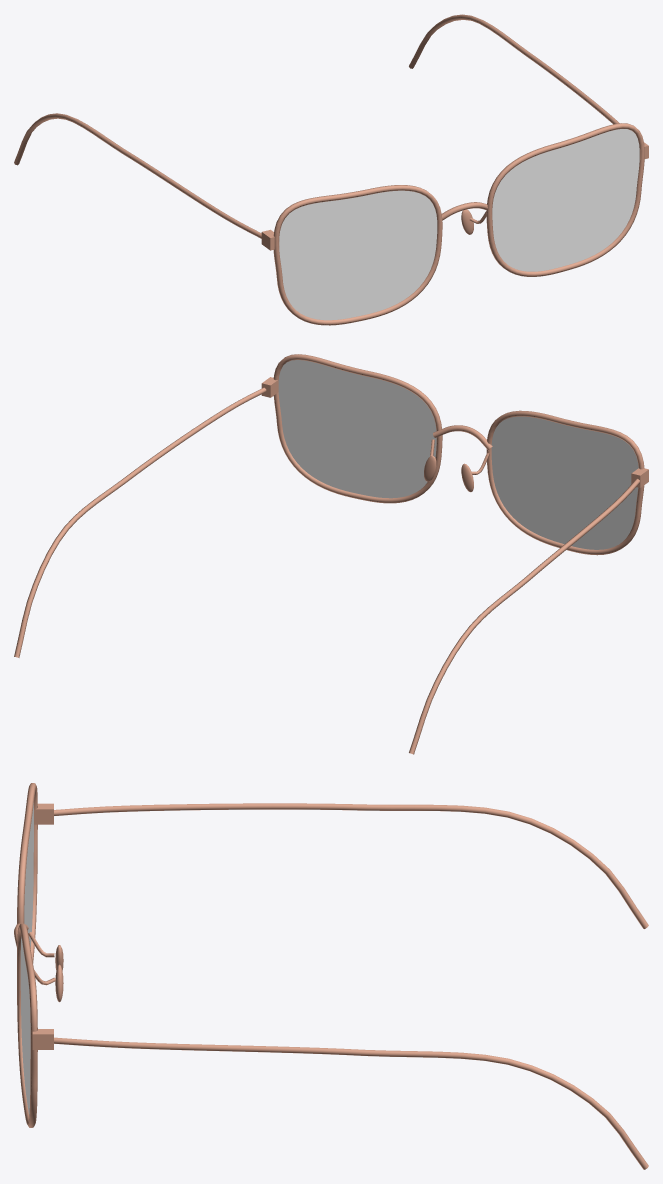
File: NY-W04_Pari_Rose_gold.glb
3 renders of one model, top to bottom at view 1: azimuth 30°, elevation 25°; view 2: azimuth 150°, elevation 25°; view 3: azimuth 270°, elevation 25°, orthographic. The views are drawn at different scales.
Parts seen in each view (by area): view 1: Pari_Rose_gold_Lenses, Pari_Rose_gold_Metal; view 2: Pari_Rose_gold_Lenses, Pari_Rose_gold_Metal; view 3: Pari_Rose_gold_Metal, Pari_Rose_gold_Lenses.
Boxes of the visible parts, x1,y1,x2,y2 form: Pari_Rose_gold_Lenses: (279, 129, 639, 320); Pari_Rose_gold_Metal: (14, 14, 648, 325); Pari_Rose_gold_Lenses: (278, 360, 638, 549); Pari_Rose_gold_Metal: (14, 354, 648, 754); Pari_Rose_gold_Metal: (14, 783, 648, 1169); Pari_Rose_gold_Lenses: (20, 803, 33, 1114).
Bounding box in the file's own units: 0.1377 × 0.0431 × 0.148.
